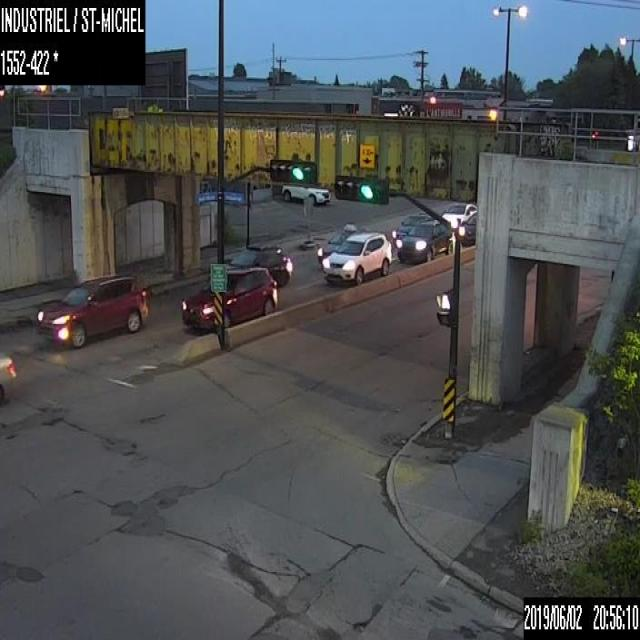vehicle: (36, 274, 150, 348), (179, 266, 277, 332), (322, 232, 391, 284), (228, 243, 292, 286), (395, 217, 452, 261), (316, 222, 359, 265), (392, 212, 428, 246), (440, 201, 477, 227), (281, 184, 329, 204), (0, 347, 16, 405), (456, 211, 476, 245)
